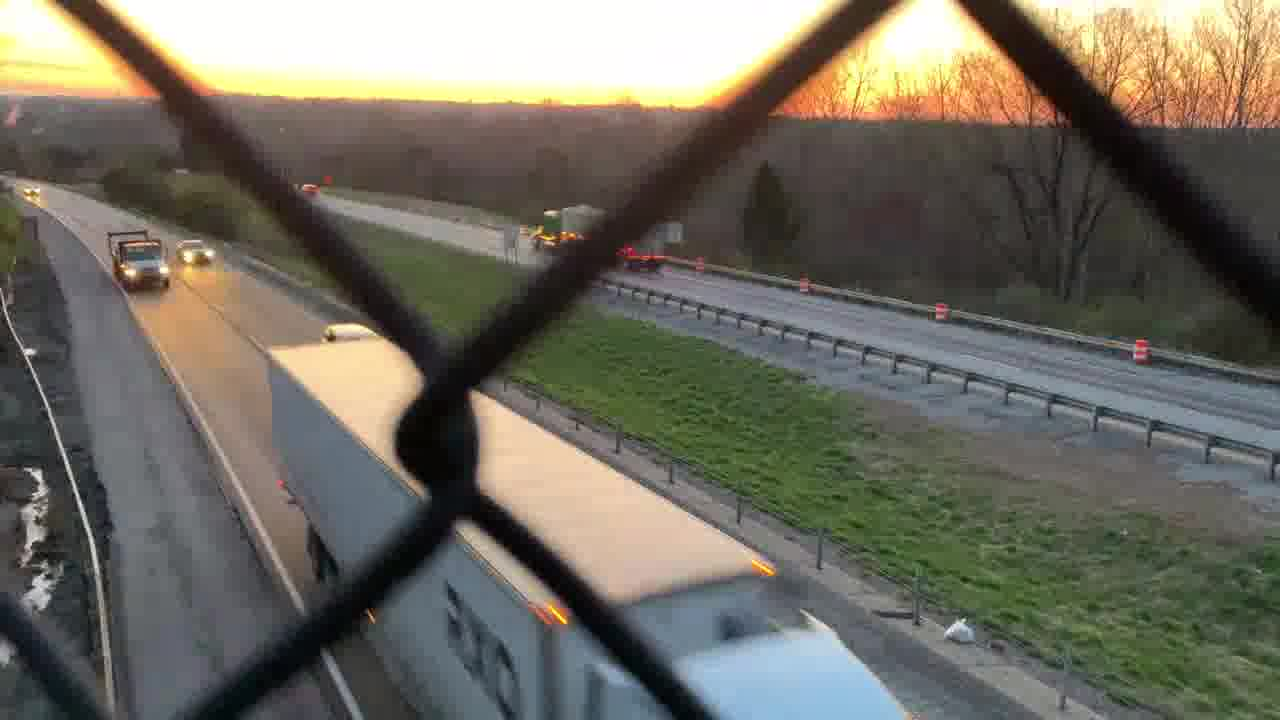heavyTruck: (257, 337, 906, 720), (528, 201, 666, 276), (103, 220, 171, 296)
smallCar: (174, 234, 216, 271), (16, 177, 40, 198)
